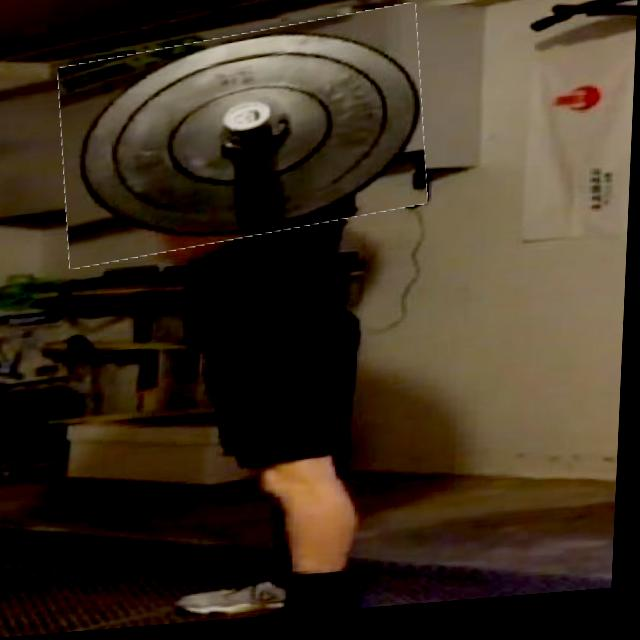barbell: (57, 19, 432, 264)
